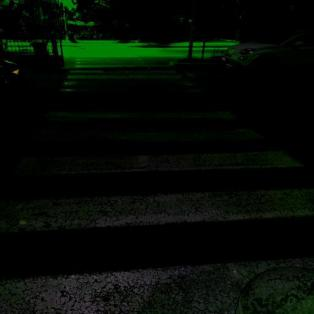Paso de Cebra: (0, 149, 314, 237), (26, 103, 272, 144)
